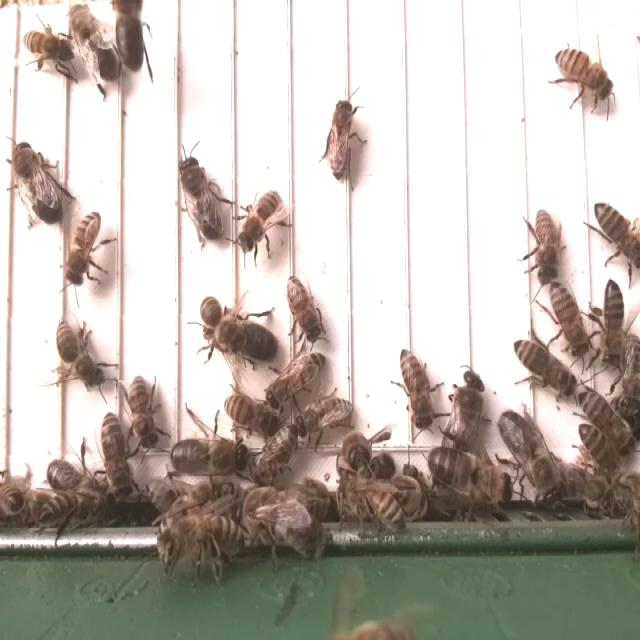Drone: (497, 409, 566, 511), (425, 444, 514, 504), (441, 367, 486, 478), (67, 0, 124, 85), (9, 138, 64, 226), (168, 431, 254, 483), (178, 150, 224, 244), (201, 314, 281, 367)
Worker: (512, 335, 579, 398), (578, 384, 636, 456), (263, 351, 331, 410), (549, 274, 592, 362), (54, 315, 104, 389), (552, 44, 616, 101), (397, 344, 438, 432), (591, 202, 640, 270), (322, 96, 359, 184), (100, 408, 136, 498), (235, 190, 285, 254), (285, 271, 326, 349), (62, 211, 103, 287), (291, 394, 358, 439), (128, 372, 161, 452), (530, 203, 560, 289), (221, 391, 280, 430), (601, 275, 626, 364), (23, 28, 75, 68)
